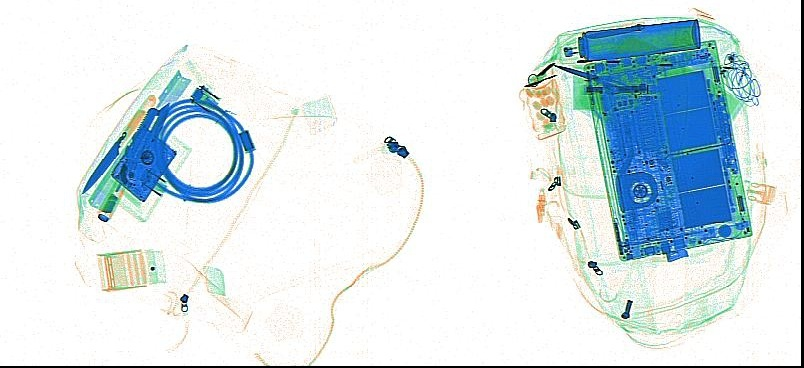knife: (96, 100, 169, 222), (80, 91, 156, 196), (580, 20, 644, 40)
pressure: (576, 16, 700, 60)
scissors: (551, 62, 630, 91)
